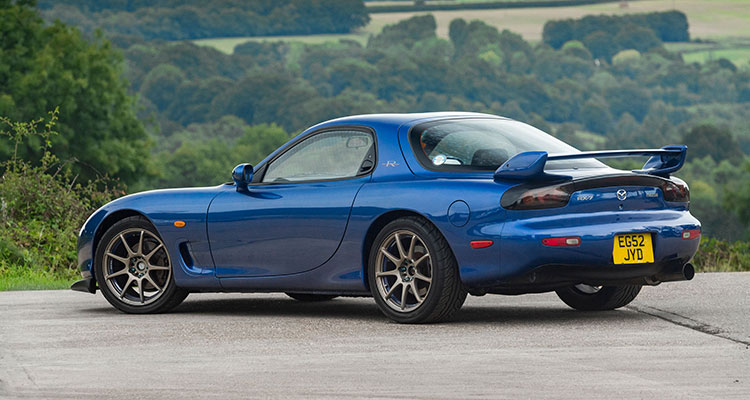plate: (612, 231, 655, 266)
